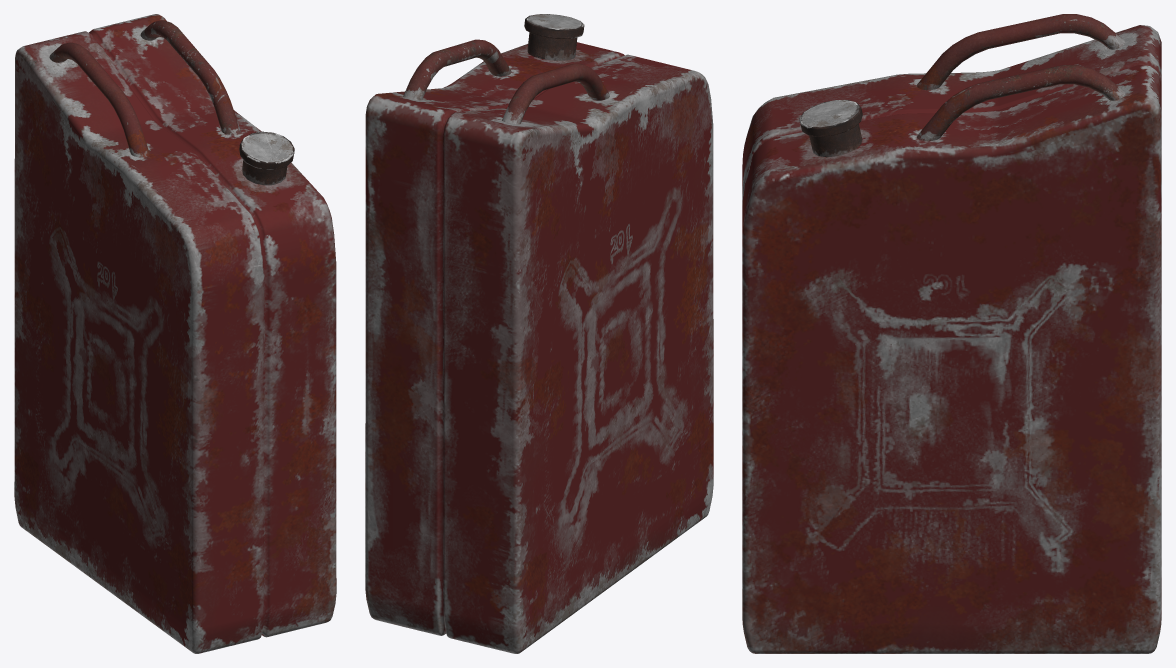
File: old_oil_tank.glb
The picture shows the model from 3 angles, left to right: view 1: azimuth 30°, elevation 25°; view 2: azimuth 150°, elevation 25°; view 3: azimuth 270°, elevation 25°; orthographic projection. The views are drawn at different scales.
Parts seen in each view (by area): view 1: Object_2; view 2: Object_2; view 3: Object_2.
Boxes of the visible parts, <box> form: Object_2: <box>14,14,336,653</box>; Object_2: <box>365,14,713,653</box>; Object_2: <box>742,14,1161,653</box>.
Size of the model in its own units: 3.29 by 10.99 by 7.23.
1 material, 1 textured.
